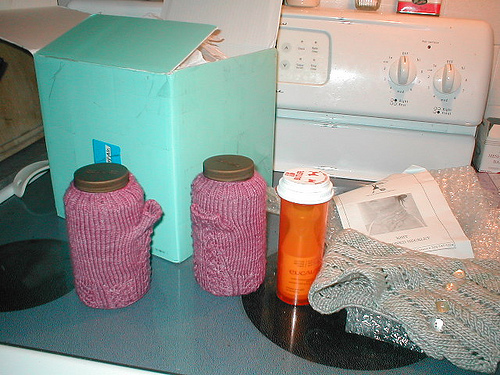pill bottle: (277, 167, 334, 306)
